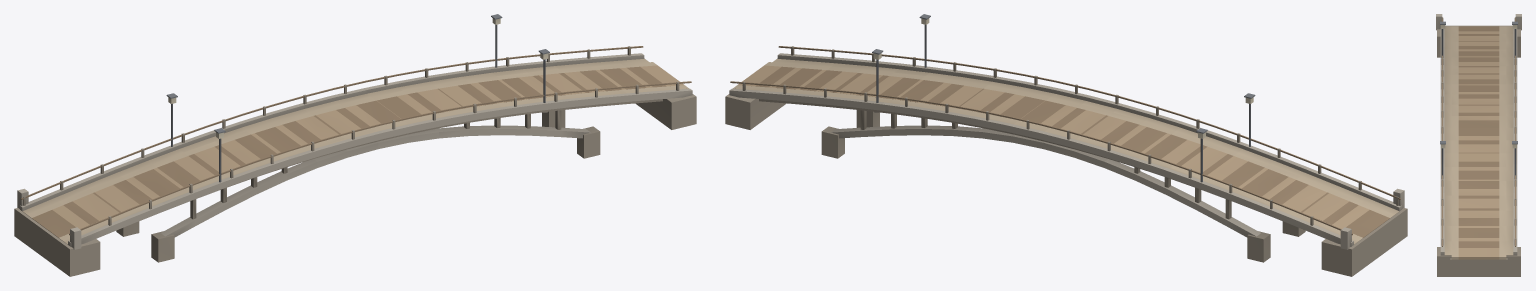
File: bridge_byeolmaru_wide_low.glb
3 views of the same model, side by side, from view 1: azimuth 30°, elevation 25°; view 2: azimuth 150°, elevation 25°; view 3: azimuth 270°, elevation 25° (orthographic). The views are drawn at different scales.
Size of the model in its own units: 62.05 by 11.31 by 9.7.
